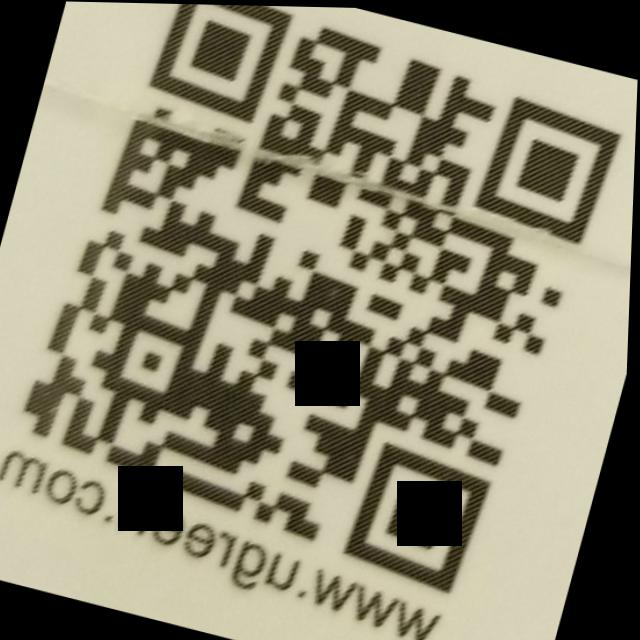QR_CODE: (0, 0, 640, 609)
